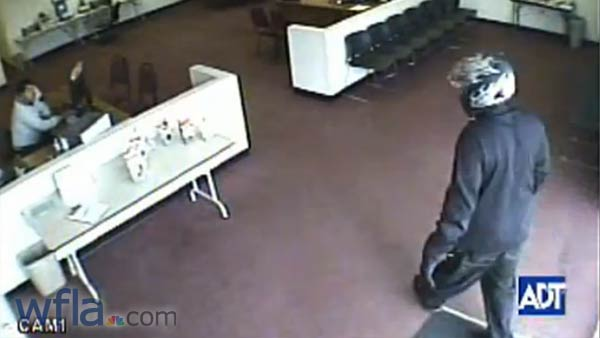helmet: (444, 46, 525, 115)
